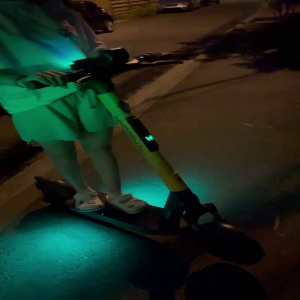human on a scooter: (1, 1, 278, 299)
